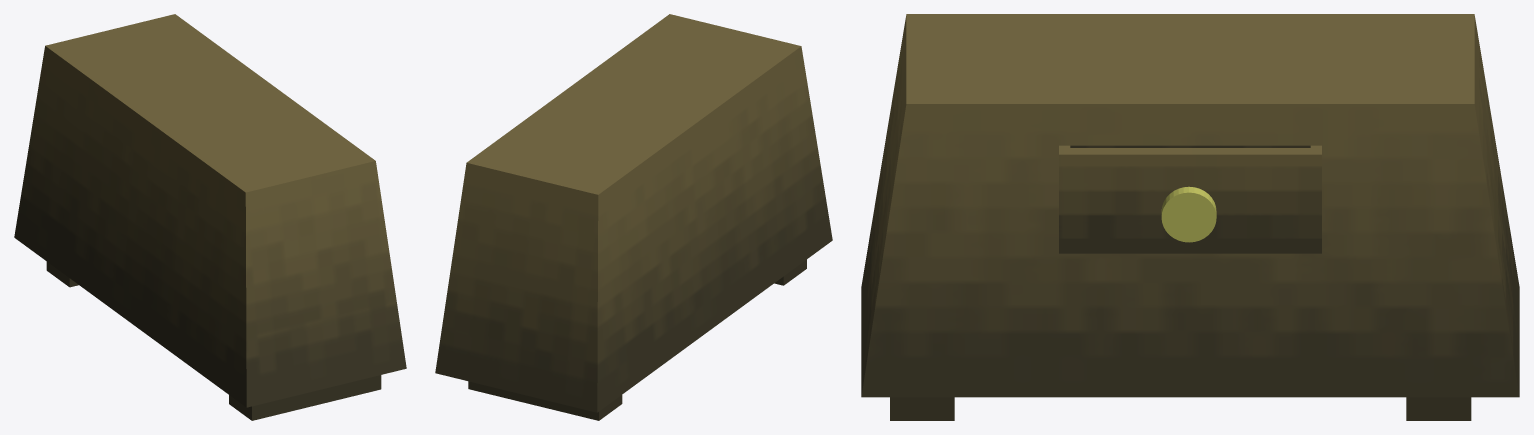
The model's file is OutsideDrawer.glb.
3 views of the same model, side by side, from view 1: azimuth 30°, elevation 25°; view 2: azimuth 150°, elevation 25°; view 3: azimuth 270°, elevation 25° (orthographic). The views are drawn at different scales.
Visible parts, largest first — view 1: Outside Drawer_Baked, LeftFoot.001_Baked; view 2: Outside Drawer_Baked, RightFoot.001_Baked; view 3: Outside Drawer_Baked, CenterDrawer_Baked, nobcenter_Baked, RightFoot.001_Baked, LeftFoot.001_Baked.
Part boxes in pixels (<box>): Outside Drawer_Baked: <box>14,14,406,407</box>; LeftFoot.001_Baked: <box>229,375,381,420</box>; Outside Drawer_Baked: <box>435,14,832,412</box>; RightFoot.001_Baked: <box>468,381,622,420</box>; Outside Drawer_Baked: <box>861,14,1519,397</box>; CenterDrawer_Baked: <box>1059,145,1321,253</box>; nobcenter_Baked: <box>1161,186,1216,242</box>; RightFoot.001_Baked: <box>1406,397,1471,420</box>; LeftFoot.001_Baked: <box>890,397,954,420</box>.
Bounding box in the file's own units: 2.74 × 3.32 × 6.23.
Materials: 5 (5 with a texture image).
